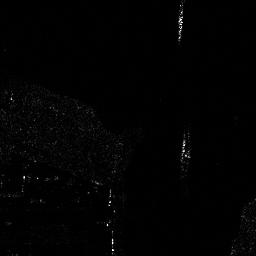ship: (179, 129, 192, 174), (176, 1, 185, 42)
